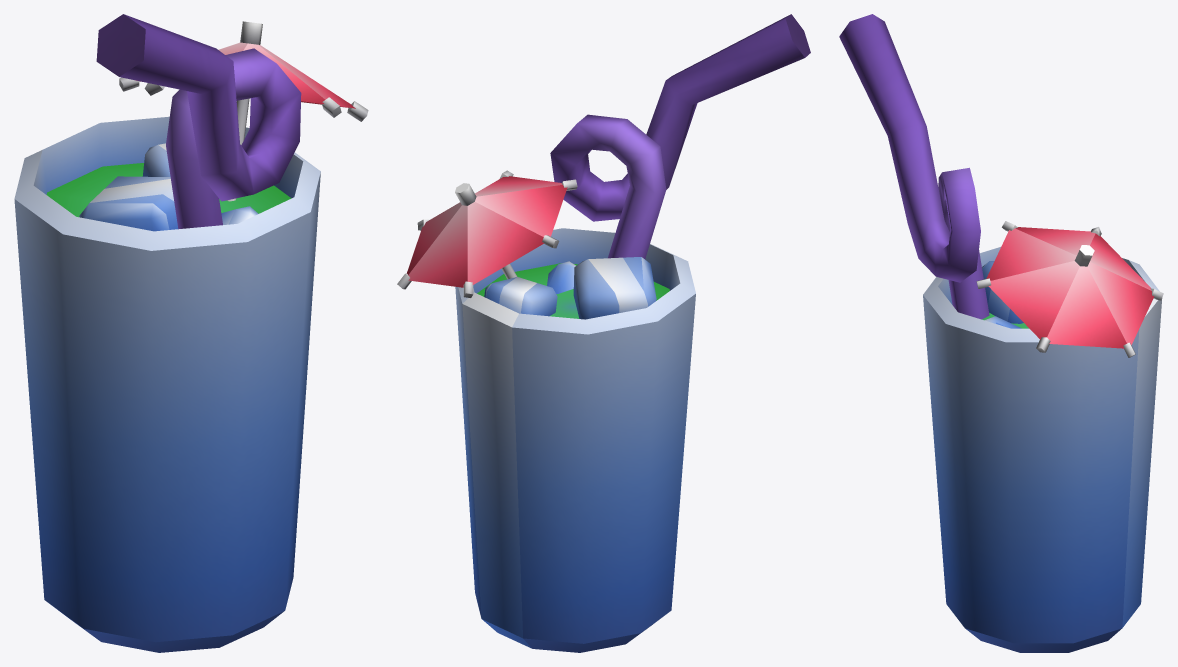
The model's file is m_Cocktail13.fbx.
The picture shows the model from 3 angles, left to right: view 1: azimuth 30°, elevation 25°; view 2: azimuth 150°, elevation 25°; view 3: azimuth 270°, elevation 25°; orthographic projection. The views are drawn at different scales.
Visible parts, largest first — view 1: m_Cocktail13; view 2: m_Cocktail13; view 3: m_Cocktail13.
Part boxes in pixels (x1=…): m_Cocktail13: x1=14, y1=14, x2=368, y2=652; m_Cocktail13: x1=397, y1=14, x2=810, y2=652; m_Cocktail13: x1=839, y1=14, x2=1163, y2=652.
Bounding box in the file's own units: 18.26 × 32.78 × 17.6.
